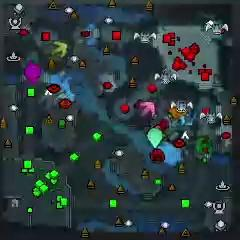p2: (148, 127, 163, 147)
p3: (25, 61, 41, 83)
x1: (139, 101, 156, 116)
x2: (51, 40, 67, 58)
x3: (169, 112, 187, 129)
x4: (196, 136, 212, 155)
x5: (168, 106, 188, 118)
